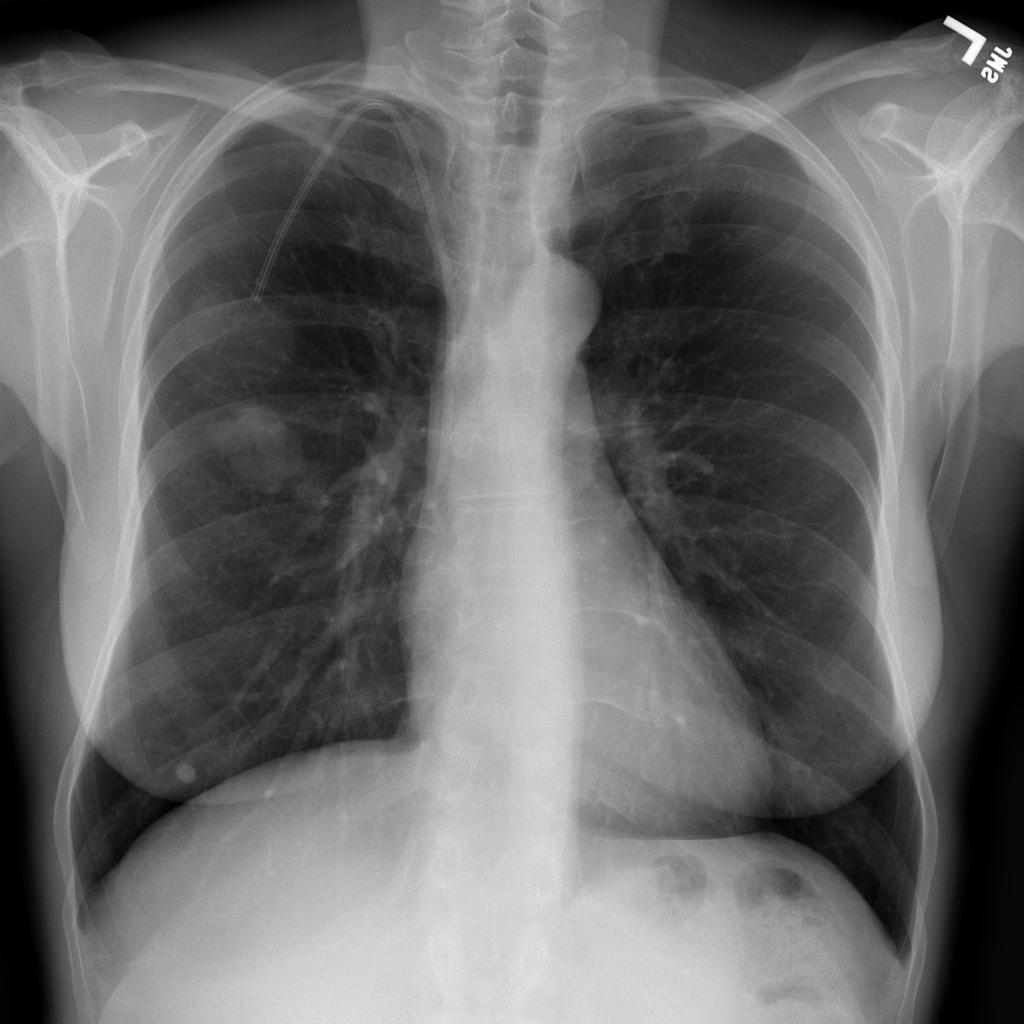nodule: (156, 260, 285, 384), (193, 381, 316, 508), (171, 757, 204, 785)
